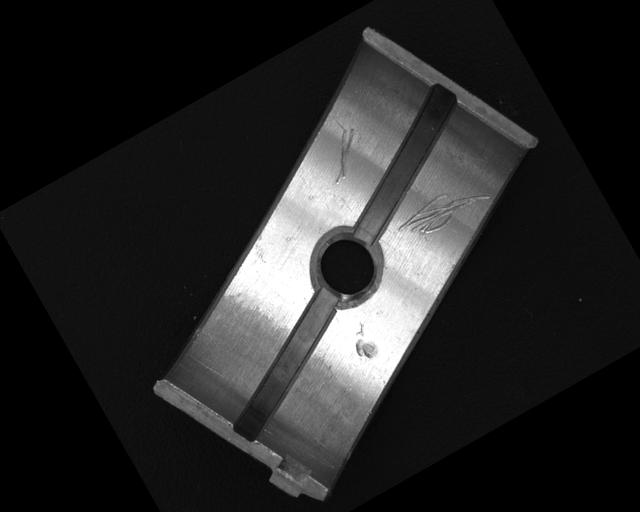bruise: (343, 319, 382, 364)
gap: (313, 81, 496, 246), (196, 286, 373, 445)
hole: (297, 218, 397, 316)
nick: (391, 172, 493, 249), (315, 125, 374, 184)
